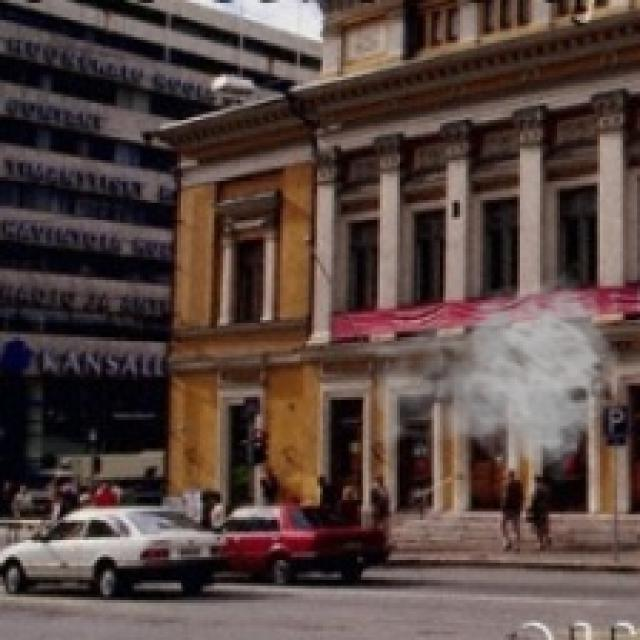smoke: (351, 271, 626, 486)
